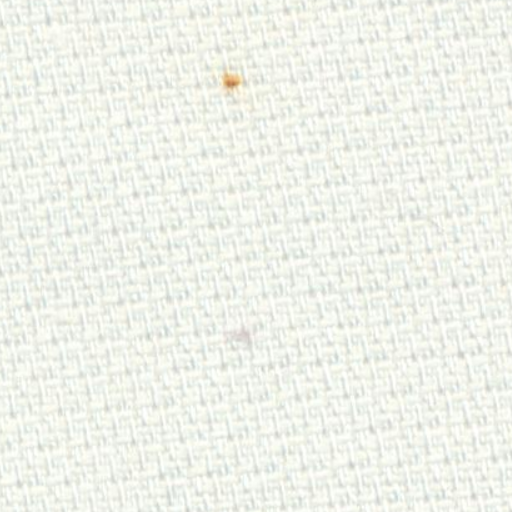WuZi: (200, 50, 258, 108), (209, 306, 264, 358)
